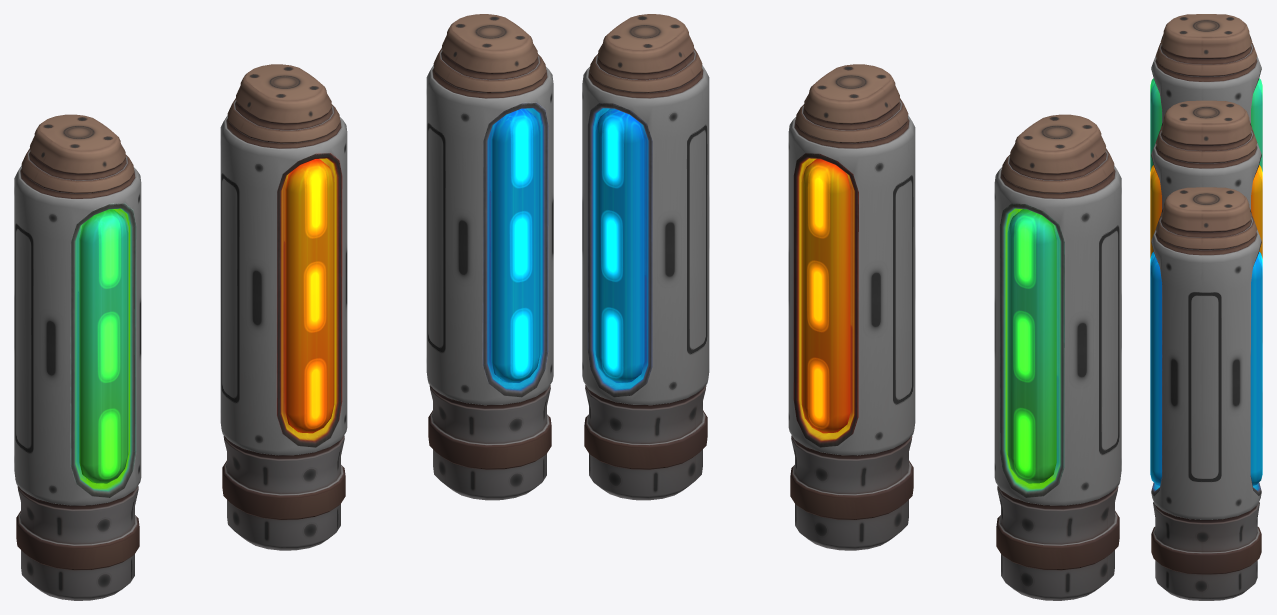
The picture shows the model from 3 angles, left to right: view 1: azimuth 30°, elevation 25°; view 2: azimuth 150°, elevation 25°; view 3: azimuth 270°, elevation 25°; orthographic projection. The views are drawn at different scales.
Visible parts, largest first — view 1: Cylinder_Sci_Fi_1_3, Cylinder_Sci_Fi_1_1, Cylinder_Sci_Fi_1_2; view 2: Cylinder_Sci_Fi_1_3, Cylinder_Sci_Fi_1_1, Cylinder_Sci_Fi_1_2; view 3: Cylinder_Sci_Fi_1_2, Cylinder_Sci_Fi_1_1, Cylinder_Sci_Fi_1_3.
Part boxes in pixels (x1,y1,x2,y2): Cylinder_Sci_Fi_1_3: [14, 114, 141, 600]; Cylinder_Sci_Fi_1_1: [220, 64, 347, 550]; Cylinder_Sci_Fi_1_2: [426, 14, 553, 500]; Cylinder_Sci_Fi_1_3: [994, 114, 1121, 600]; Cylinder_Sci_Fi_1_1: [788, 64, 915, 550]; Cylinder_Sci_Fi_1_2: [582, 14, 709, 500]; Cylinder_Sci_Fi_1_2: [1150, 187, 1262, 600]; Cylinder_Sci_Fi_1_1: [1150, 100, 1262, 258]; Cylinder_Sci_Fi_1_3: [1150, 14, 1262, 171].
Bounding box in the file's own units: 126 × 104 × 27.43.
3 materials, 3 textured.
